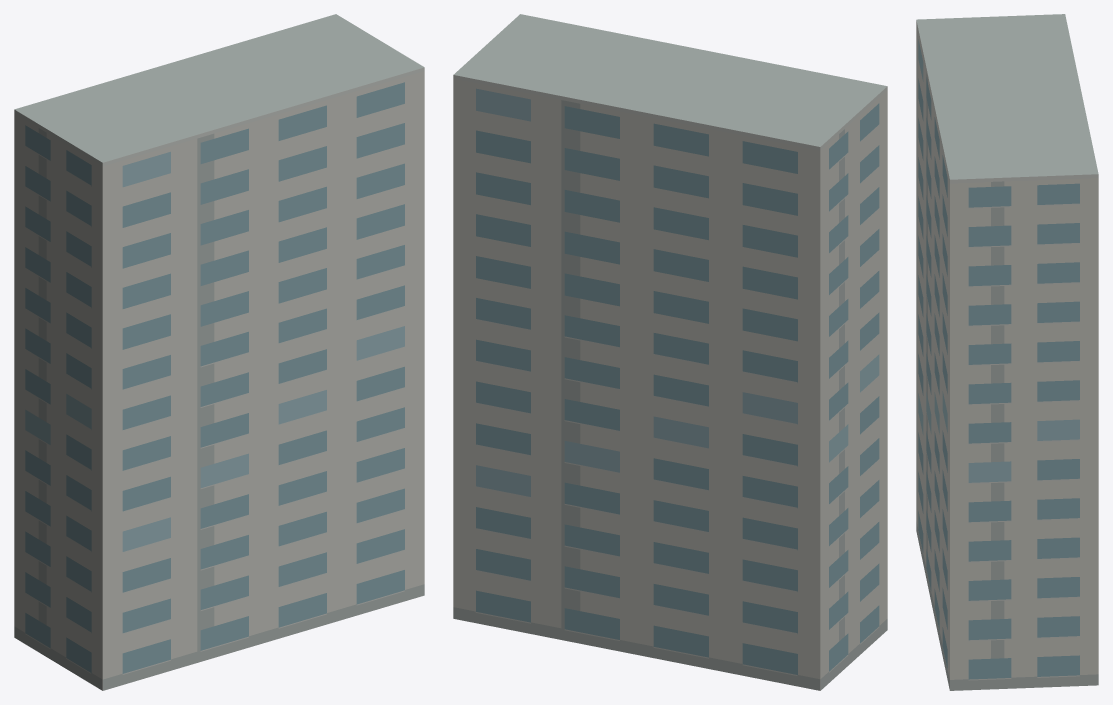
The model's file is residential-f6312493-4a01-45b9-9adf-a6862ec576ab.glb.
3 views of the same model, side by side, from view 1: azimuth 30°, elevation 25°; view 2: azimuth 150°, elevation 25°; view 3: azimuth 270°, elevation 25° (orthographic). The views are drawn at different scales.
Visible parts, largest first — view 1: residential-f6312493-4a01-45b9-9adf-a6862ec576ab.tmp; view 2: residential-f6312493-4a01-45b9-9adf-a6862ec576ab.tmp; view 3: residential-f6312493-4a01-45b9-9adf-a6862ec576ab.tmp.
Boxes of the visible parts, x1,y1,x2,y2 form: residential-f6312493-4a01-45b9-9adf-a6862ec576ab.tmp: (14,14,424,690); residential-f6312493-4a01-45b9-9adf-a6862ec576ab.tmp: (453,14,887,690); residential-f6312493-4a01-45b9-9adf-a6862ec576ab.tmp: (916,14,1098,690).
Bounding box in the file's own units: 23.66 × 34 × 11.
